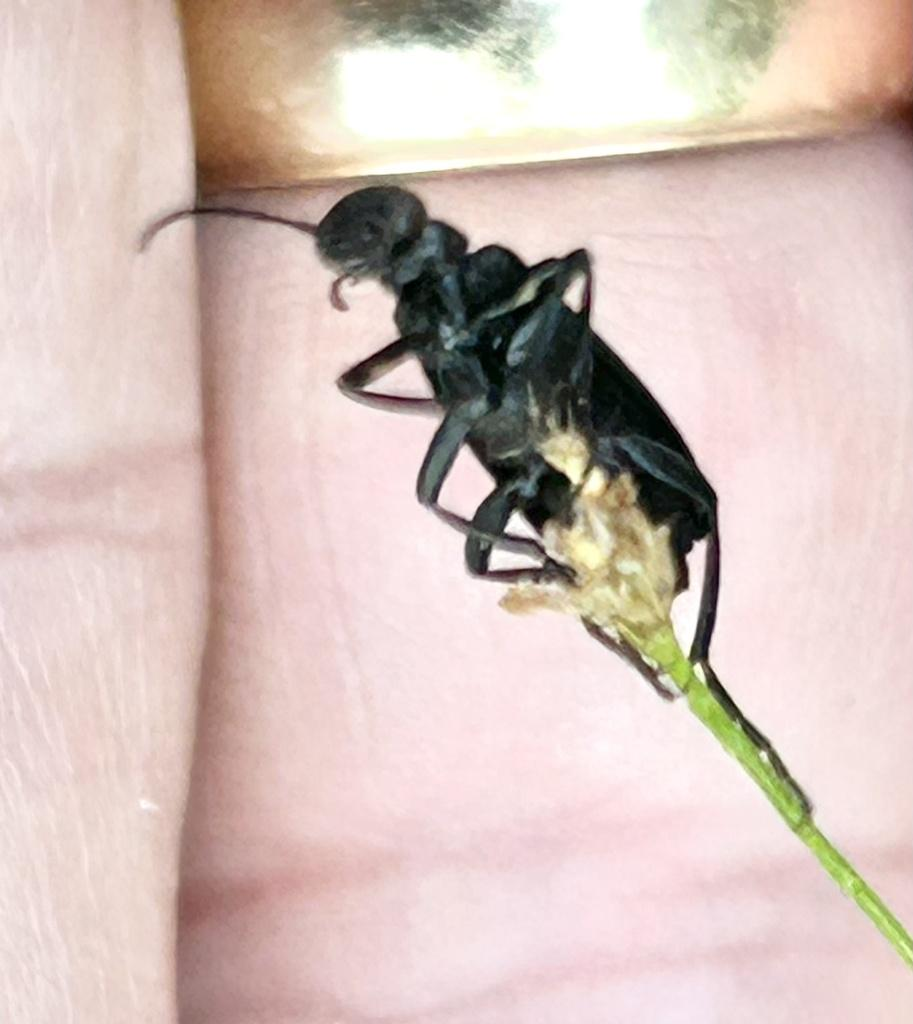blister_beetle: (104, 95, 855, 785)
